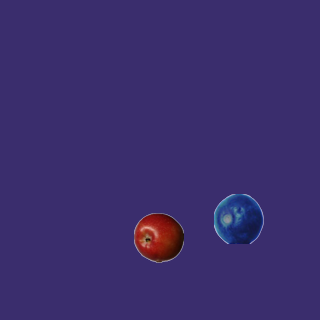Apple Braeburn: (133, 212, 183, 262)
Huckleberry: (213, 193, 263, 243)
